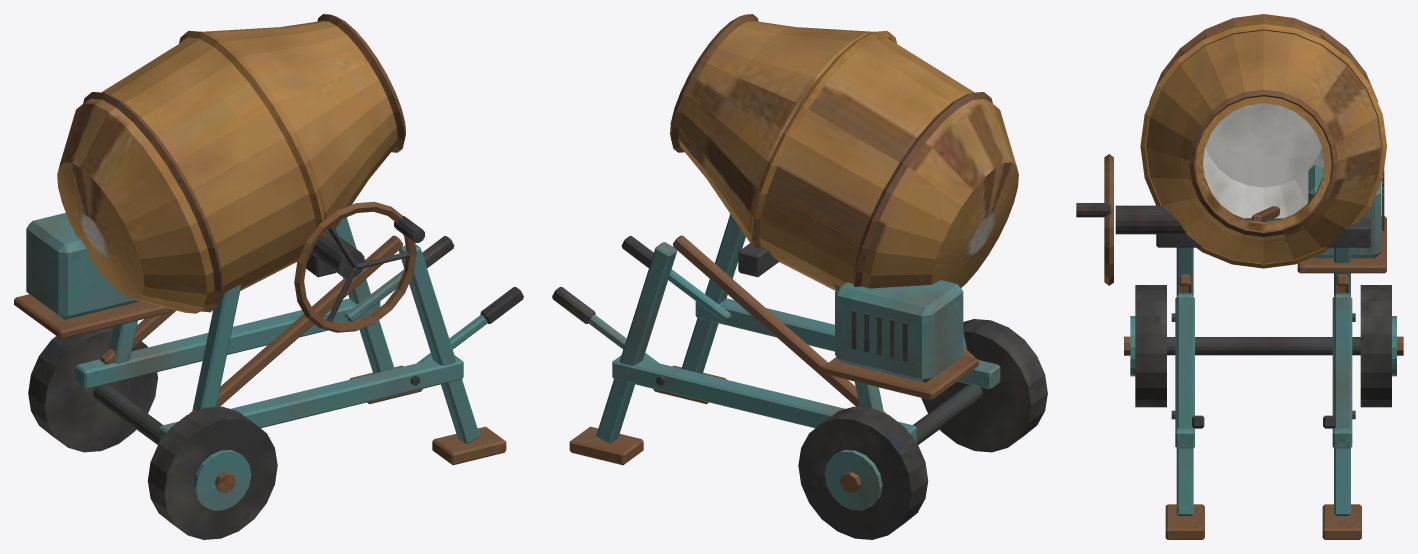
File: CS03_cement_mixer.glb
The picture shows the model from 3 angles, left to right: view 1: azimuth 30°, elevation 25°; view 2: azimuth 150°, elevation 25°; view 3: azimuth 270°, elevation 25°; orthographic projection. The views are drawn at different scales.
Visible parts, largest first — view 1: Solid rubber transport tire; view 2: Solid rubber transport tire; view 3: Solid rubber transport tire.
Part boxes in pixels (<box>): Solid rubber transport tire: <box>14,14,523,539</box>; Solid rubber transport tire: <box>552,14,1047,539</box>; Solid rubber transport tire: <box>1076,14,1403,539</box>.
Size of the model in its own units: 1.98 by 2 by 1.46.
7 materials, 7 textured.
